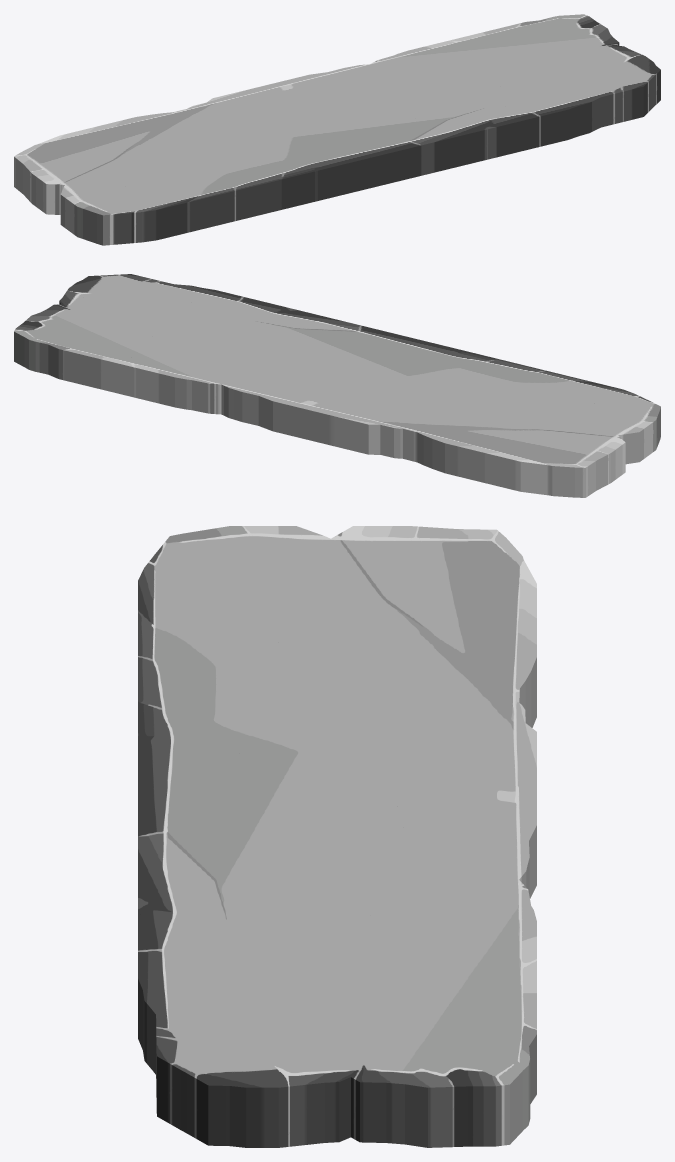
File: Stone.fbx
The picture shows the model from 3 angles, top to bottom: view 1: azimuth 30°, elevation 25°; view 2: azimuth 150°, elevation 25°; view 3: azimuth 270°, elevation 25°; orthographic projection. The views are drawn at different scales.
Visible parts, largest first — view 1: Plane.1333, Plane.933, Plane.983, Plane.1010, Plane.985, Plane.940, Plane.926, Plane.935, Plane.1328, Plane.945, Plane.1341, Plane.944 (+45 smaller); view 2: Plane.908, Plane.893, Plane.909, Plane.860, Plane.855, Plane.971, Plane.888, Plane.904, Plane.907, Plane.854, Plane.901, Plane.847 (+41 smaller); view 3: Plane.1022, Plane.1019, Plane.1020, Plane.1023, Plane.965, Plane.1018, Plane.966, Plane.1015, Plane.1010, Plane.963, Plane.861, Plane.909 (+137 smaller).
Part boxes in pixels (<box>): Plane.1333: <box>536,101,568,147</box>; Plane.933: <box>159,195,199,237</box>; Plane.983: <box>341,150,370,195</box>; Plane.1010: <box>561,95,598,139</box>; Plane.985: <box>397,138,431,180</box>; Plane.940: <box>206,180,239,225</box>; Plane.926: <box>97,209,127,245</box>; Plane.935: <box>125,205,156,243</box>; Plane.1328: <box>467,119,501,162</box>; Plane.945: <box>286,166,321,206</box>; Plane.1341: <box>422,132,456,172</box>; Plane.944: <box>303,156,341,199</box>; Plane.908: <box>186,373,233,414</box>; Plane.893: <box>339,409,380,454</box>; Plane.909: <box>242,382,278,431</box>; Plane.860: <box>466,442,510,485</box>; Plane.855: <box>520,452,555,495</box>; Plane.971: <box>108,354,147,398</box>; Plane.888: <box>368,419,405,458</box>; Plane.904: <box>296,396,328,442</box>; Plane.907: <box>273,389,311,436</box>; Plane.854: <box>496,448,526,491</box>; Plane.901: <box>321,401,360,447</box>; Plane.847: <box>549,459,574,497</box>; Plane.1022: <box>325,1064,387,1142</box>; Plane.1019: <box>229,1058,278,1147</box>; Plane.1020: <box>277,1065,340,1147</box>; Plane.1023: <box>386,1063,427,1147</box>; Plane.965: <box>425,1064,467,1147</box>; Plane.1018: <box>186,1073,225,1145</box>; Plane.966: <box>464,1056,506,1146</box>; Plane.1015: <box>156,1046,194,1130</box>; Plane.1010: <box>138,978,180,1069</box>; Plane.963: <box>495,1071,522,1146</box>; Plane.861: <box>487,657,536,727</box>; Plane.909: <box>481,825,536,898</box>.
Size of the model in its own units: 2 by 0.1 by 0.6.
Materials: 1 (1 with a texture image).
